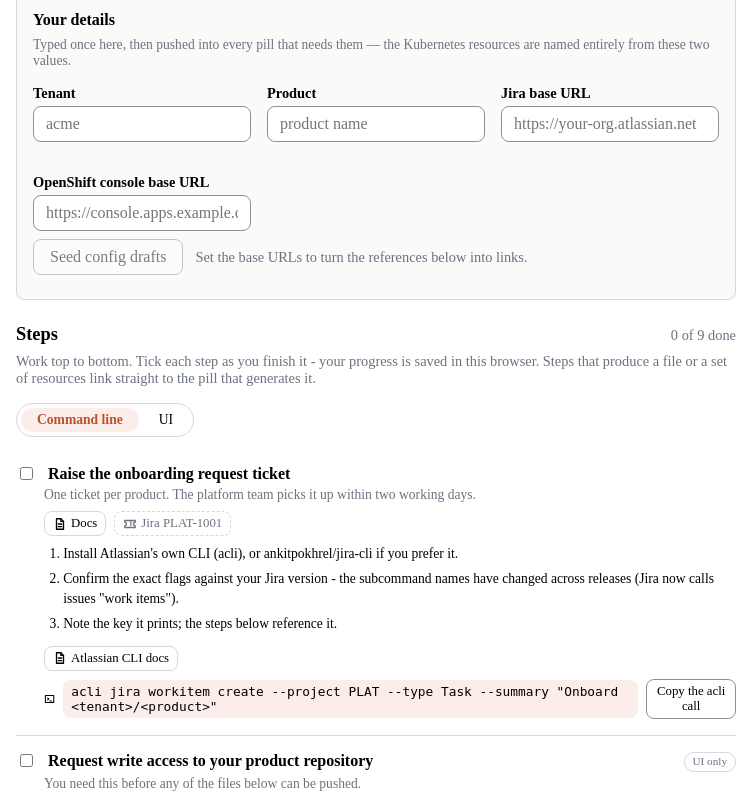
Test: OnboardingWorkspace › the console link › still names the specific console on the link itself
Click the radio button labelled "UI": (166, 420) [159, 412, 173, 427]
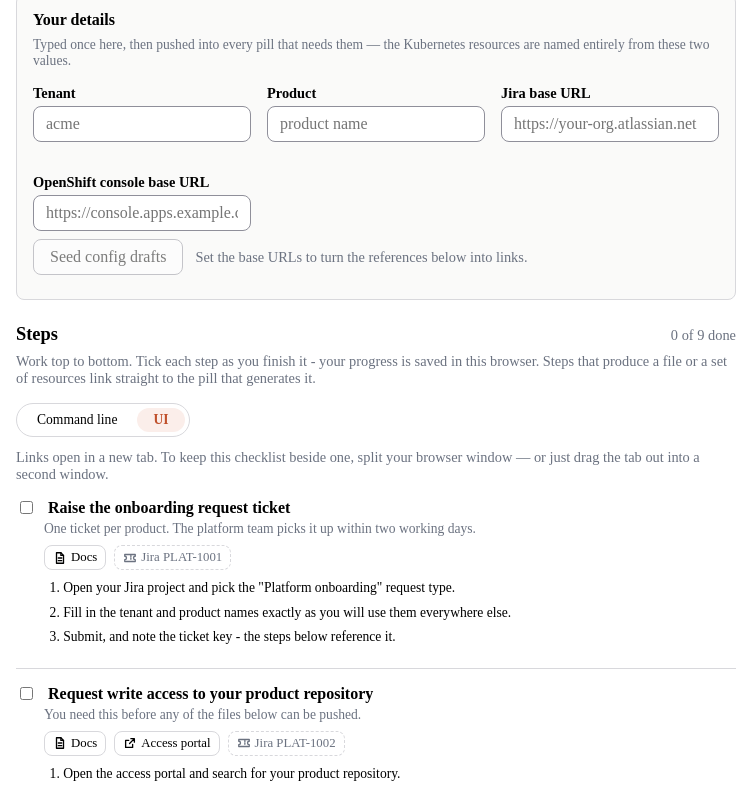
In the field labelled "OpenShift console base URL": (142, 213) [33, 195, 251, 231], type "https://console.apps.acme.com"
(page scrolled)
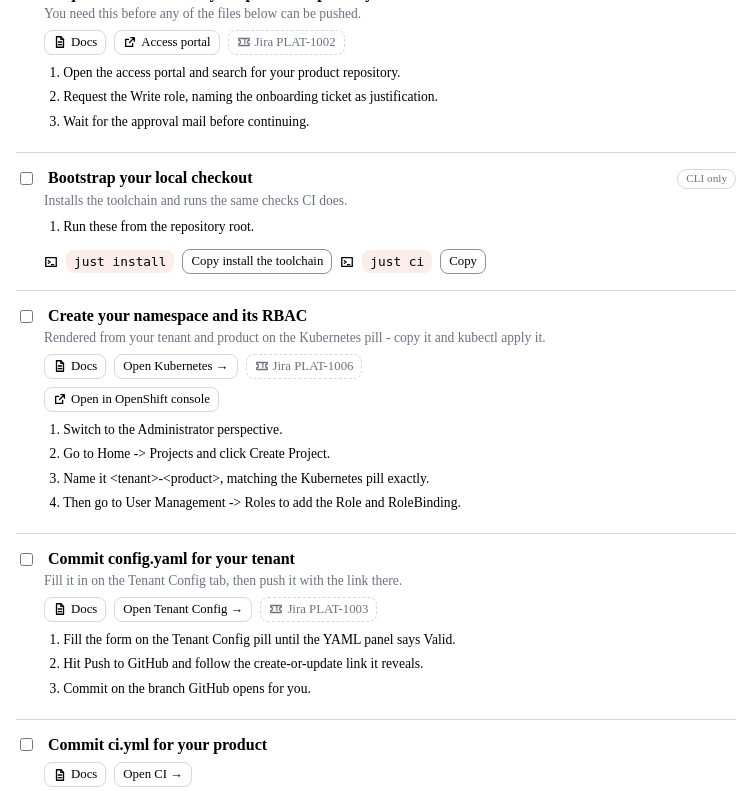
Result: the link "Open in OpenShift console" is shown at [44, 387, 219, 412]
